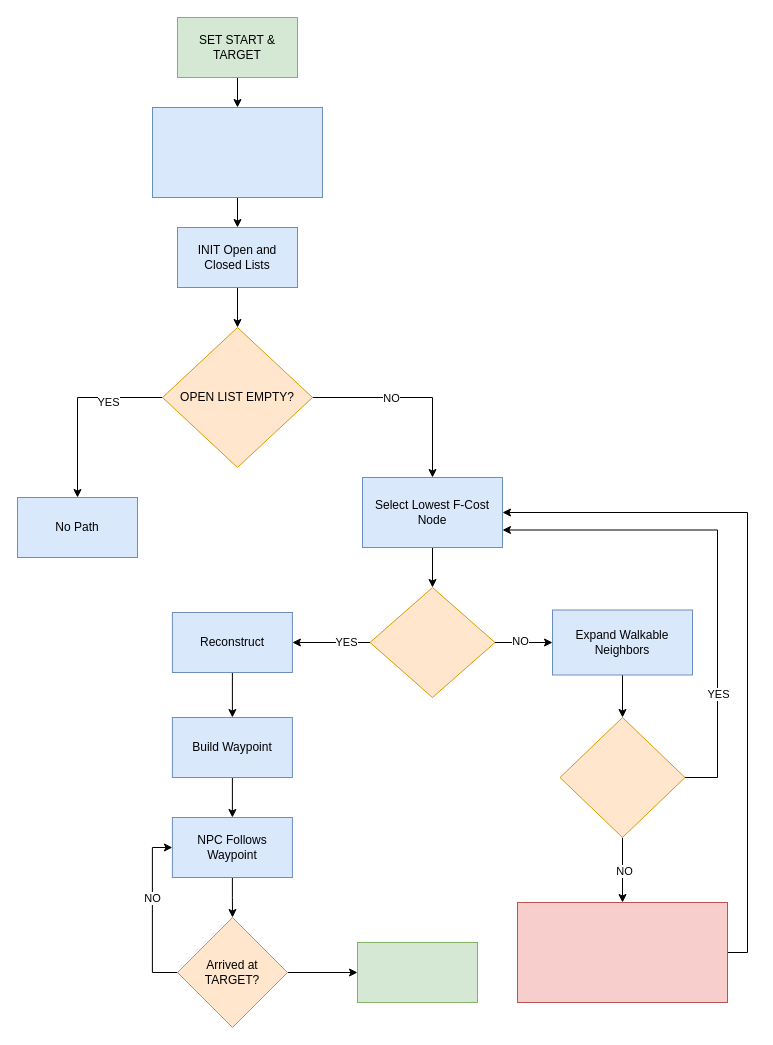
Some shapes in this 773 by 1045 pixel diagram are drawn without their labels. Here are the shapes that lost their labels. From the top down, the box of each, then its label:
(152, 106, 322, 198): CONVERT WORLD > GRID COORDINATES
(369, 586, 495, 698): IS NODE TARGET?
(559, 716, 685, 838): More Neighbors?
(356, 942, 478, 1002): ARRIVED
(516, 902, 728, 1002): Add nodes to OpenList Move current node to Closed Lis t
